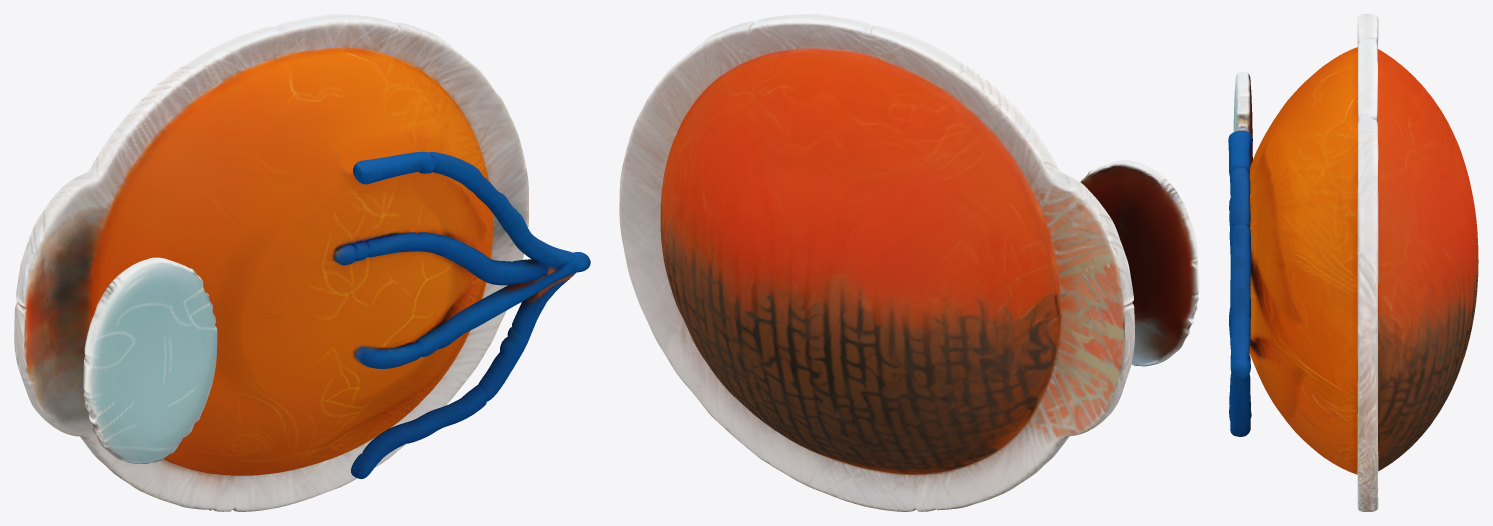
Rendered from base_basic_shaded.fbx.
3 renders of one model, left to right at view 1: azimuth 30°, elevation 25°; view 2: azimuth 150°, elevation 25°; view 3: azimuth 270°, elevation 25°, orthographic. The views are drawn at different scales.
Parts seen in each view (by area): view 1: model; view 2: model; view 3: model.
Part boxes in pixels (x1,y1,x2,y2): model: (14,14,590,511); model: (619,14,1199,511); model: (1228,14,1478,511).
Size of the model in its own units: 185 by 166 by 84.48.
